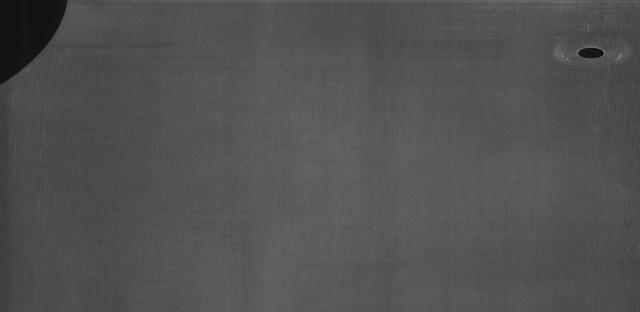crescent_gap: (0, 0, 77, 95)
punching_hole: (575, 42, 608, 62)
